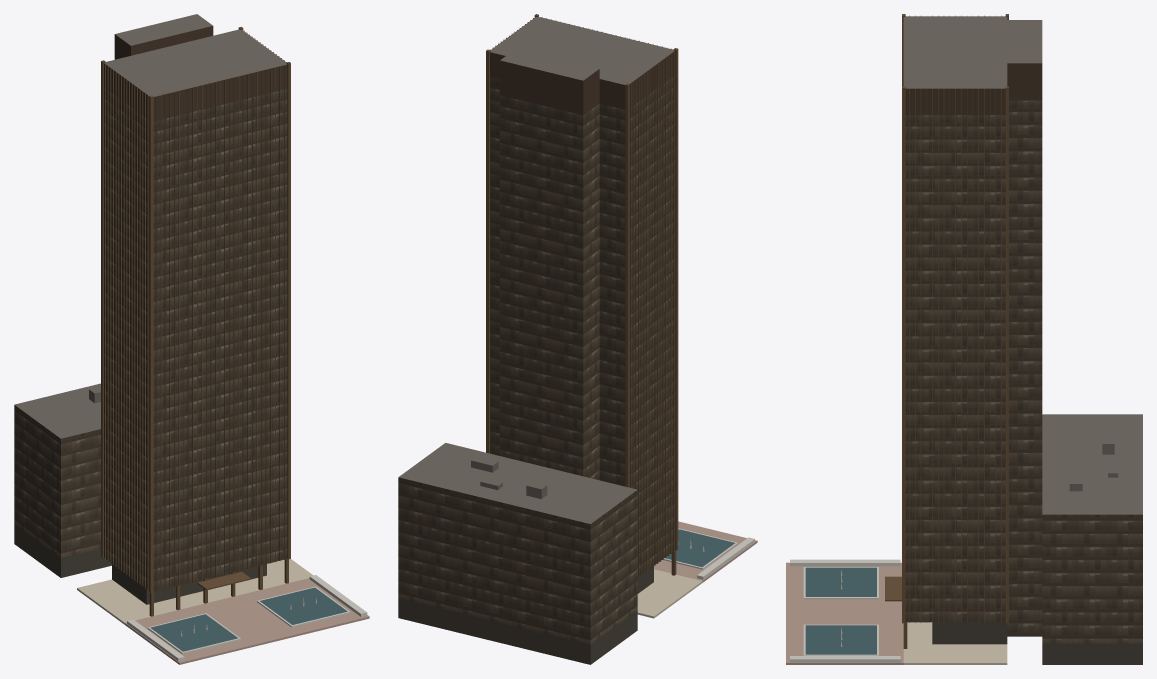
Rendered from seagram_building.glb.
The picture shows the model from 3 angles, left to right: view 1: azimuth 30°, elevation 25°; view 2: azimuth 150°, elevation 25°; view 3: azimuth 270°, elevation 25°; orthographic projection. The views are drawn at different scales.
Parts seen in each view (by area): view 1: seagram_building; view 2: seagram_building; view 3: seagram_building.
Boxes of the visible parts, <box> form: seagram_building: <box>14,14,369,664</box>; seagram_building: <box>398,14,757,664</box>; seagram_building: <box>786,14,1142,664</box>.
Size of the model in its own units: 60.01 by 160 by 90.31.
2 materials, 2 textured.
